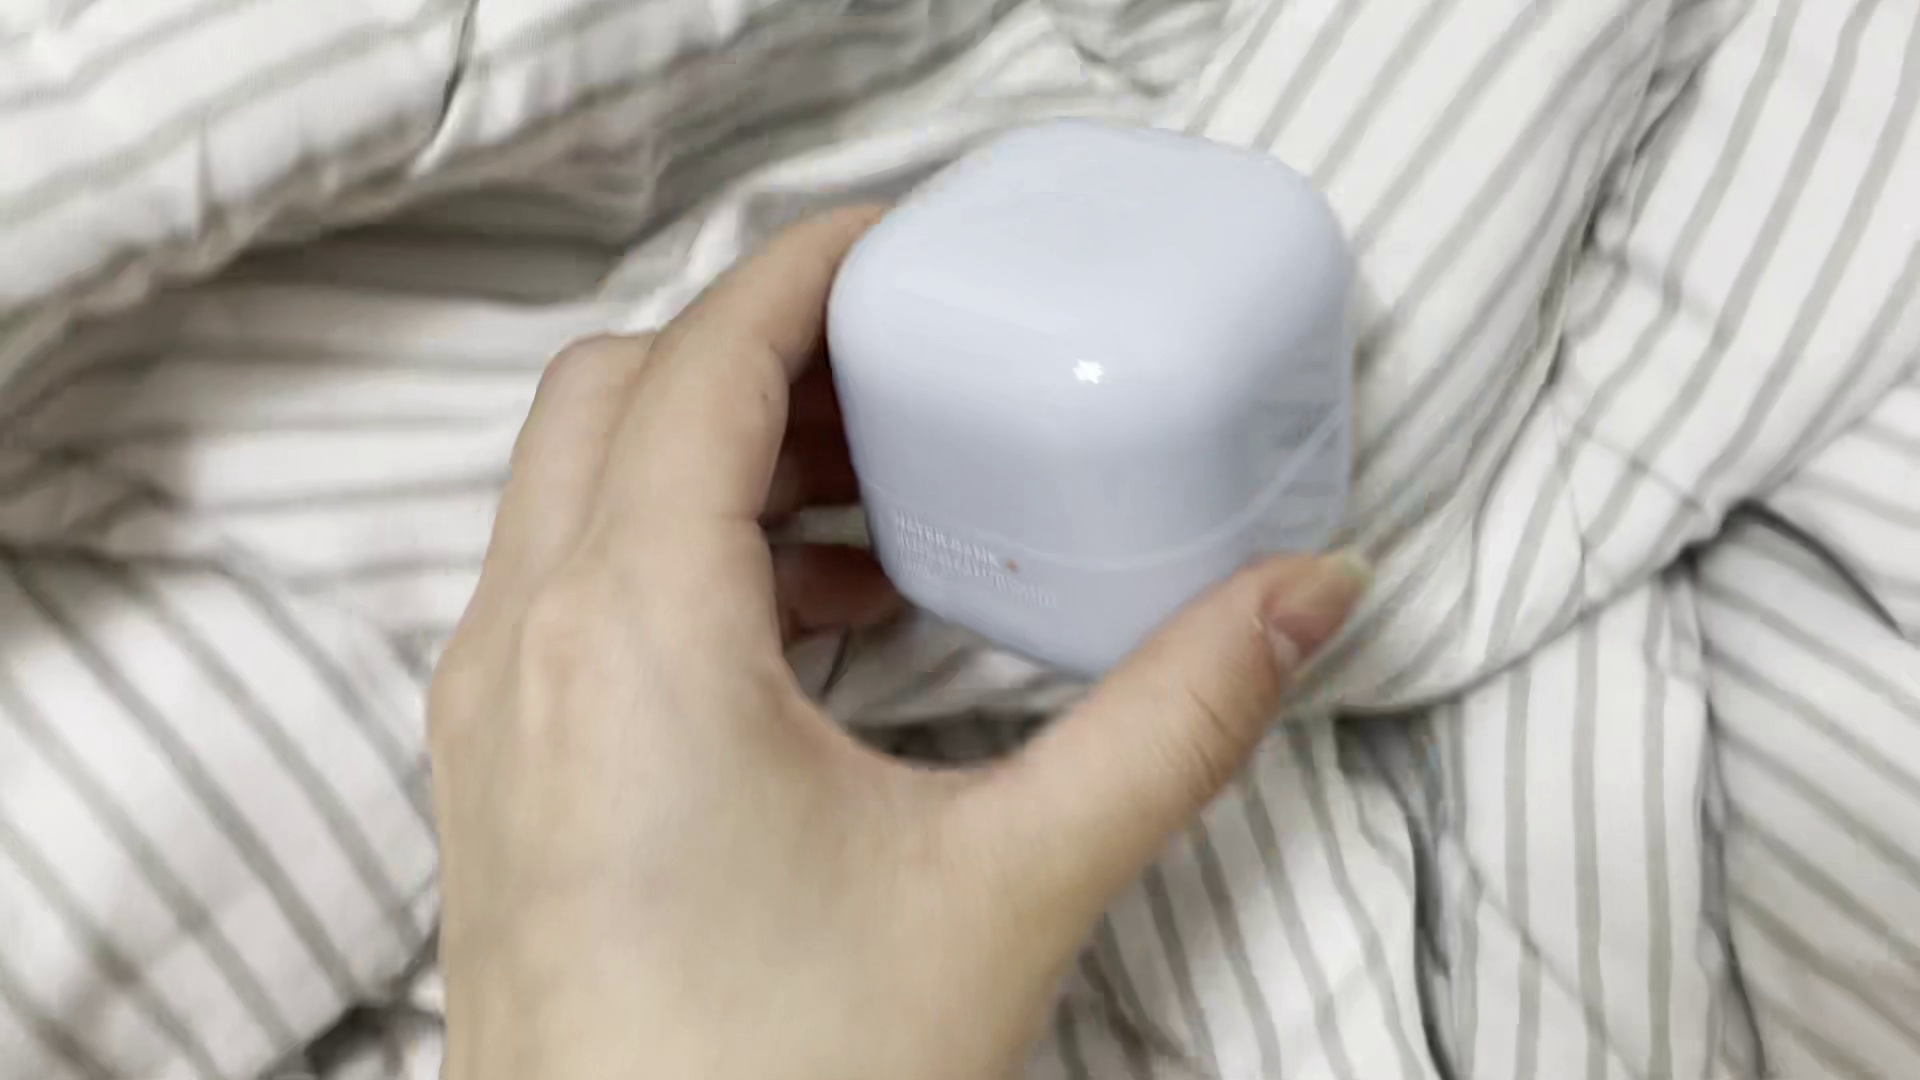cream: (824, 129, 1360, 666)
